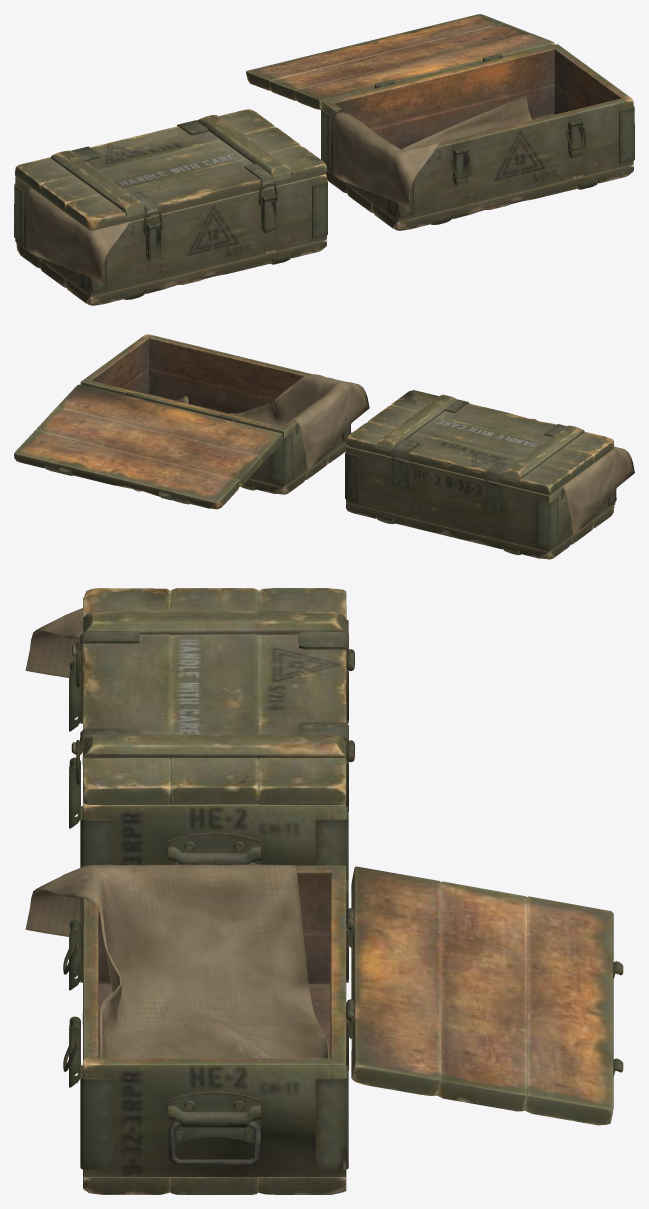
File: ph_old_military_crate.glb
The picture shows the model from 3 angles, top to bottom: view 1: azimuth 30°, elevation 25°; view 2: azimuth 150°, elevation 25°; view 3: azimuth 270°, elevation 25°; orthographic projection. The views are drawn at different scales.
Visible parts, largest first — view 1: old_military_crate_lid_a; view 2: old_military_crate_lid_a; view 3: old_military_crate_lid_a.
Part boxes in pixels (<box>): old_military_crate_lid_a: <box>14,14,634,305</box>; old_military_crate_lid_a: <box>14,334,634,559</box>; old_military_crate_lid_a: <box>25,588,623,1194</box>.
Size of the model in its own units: 1.82 by 0.3009 by 0.9757.
Materials: 1 (1 with a texture image).
